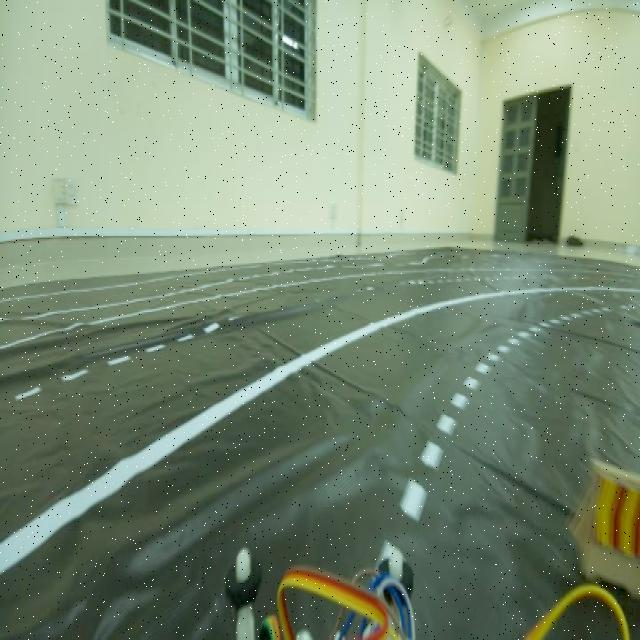roadblock: (567, 459, 640, 593)
